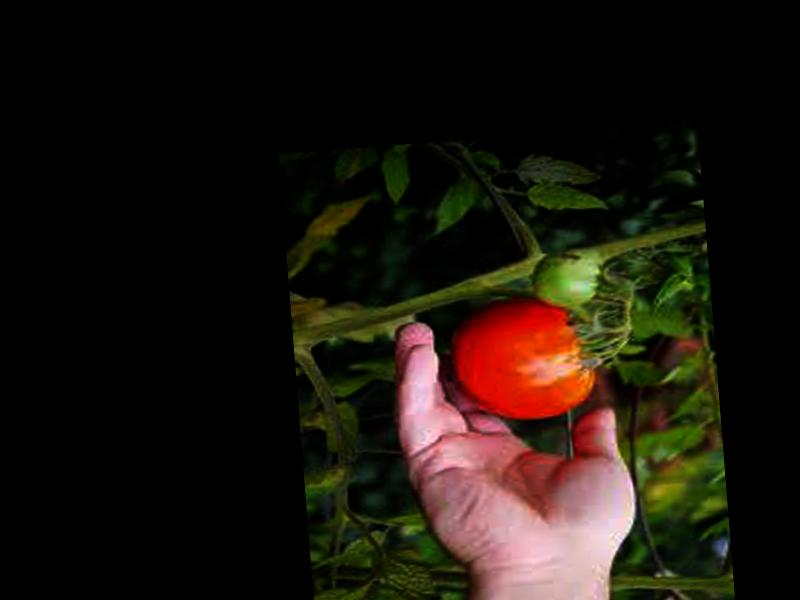Tomato: (447, 289, 602, 426)
